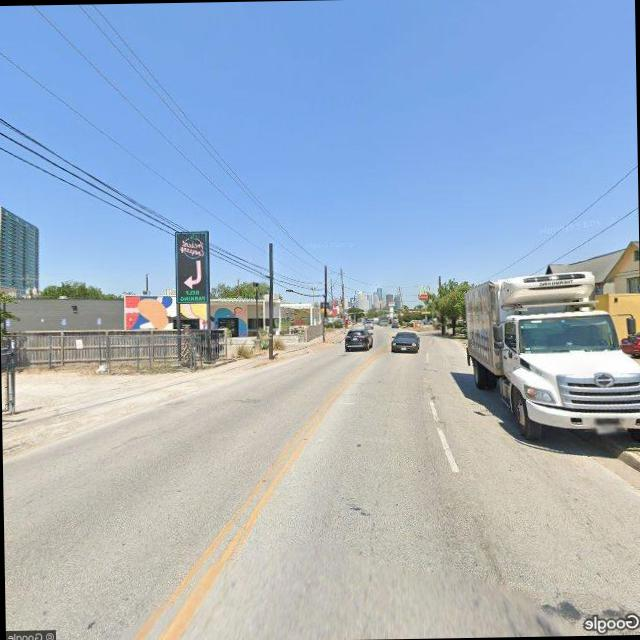pothole: (346, 502, 372, 516)
